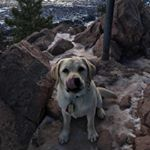puppy: (45, 55, 111, 146)
